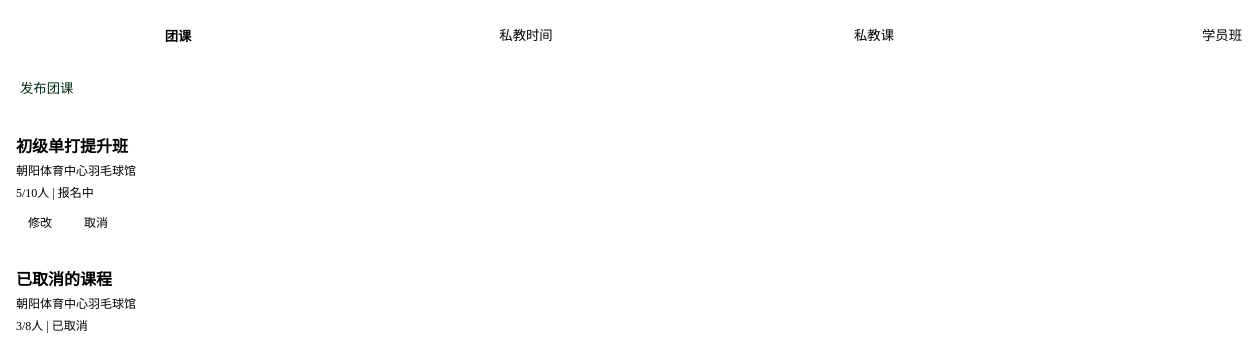
Test: MyCourseManagementPage › should not show cancel button for completed private lessons
The image size is (1259, 350).
Click the button "私教课": (874, 36) [700,17,1048,54]
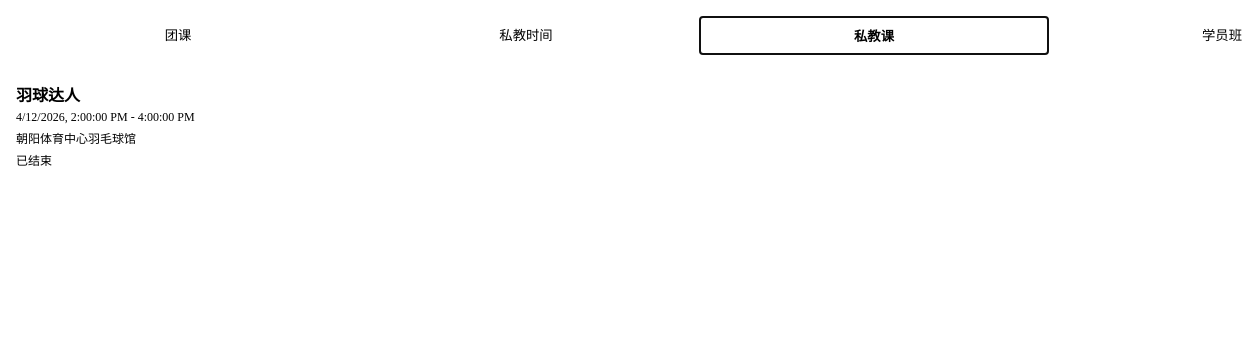
Expected: the button "取消" is gone
